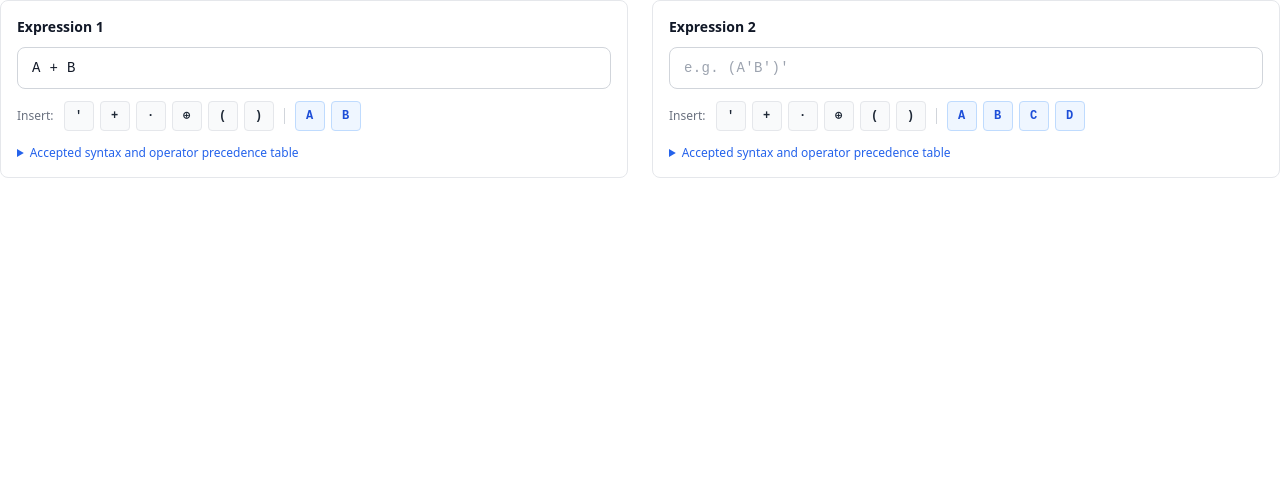
Test: EquivalencePanel › detects inequivalence and displays counterexample and discrepancy table
The width and height of the screenshot is (1280, 485).
In the field labelled "Expression 2": (966, 68) [669, 47, 1263, 89], type "AB"
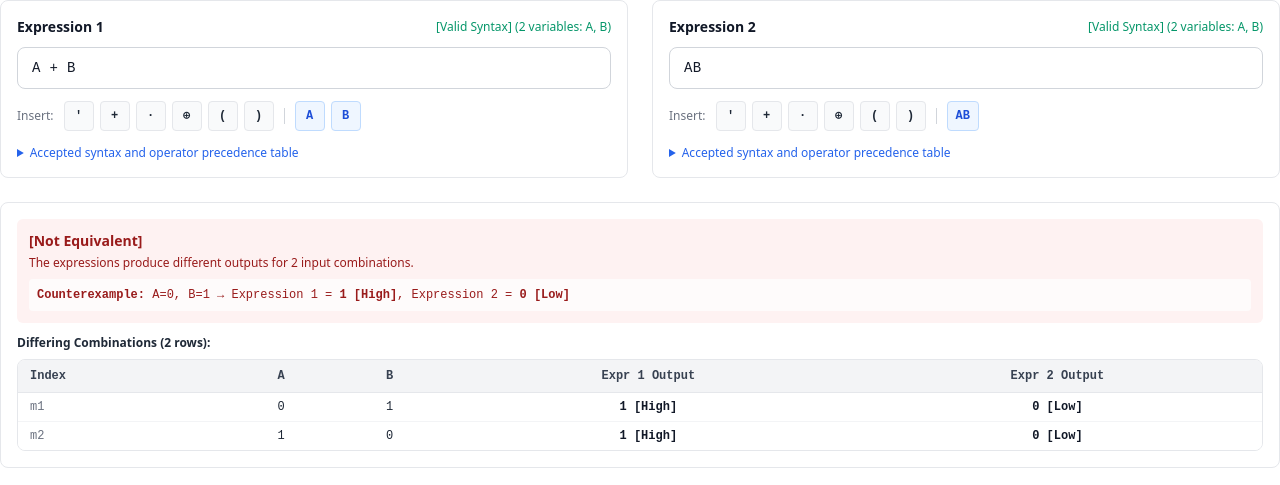
expect the text "[Not Equivalent]" is shown: met, box [29, 231, 142, 250]
expect the text "Counterexample:" is shown: met, box [37, 288, 145, 302]
expect the table is shown: met, box [18, 360, 1262, 450]
